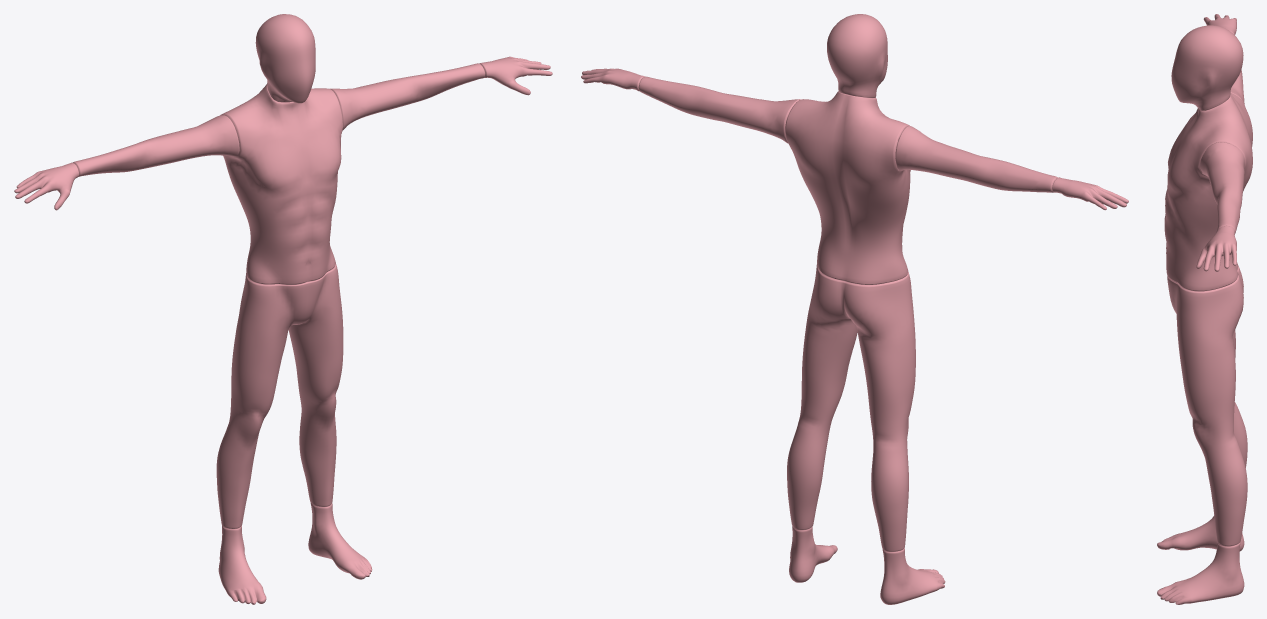
The model's file is Body3.glb.
3 renders of one model, left to right at view 1: azimuth 30°, elevation 25°; view 2: azimuth 150°, elevation 25°; view 3: azimuth 270°, elevation 25°, orthographic. The views are drawn at different scales.
Parts seen in each view (by area): view 1: Ch36; view 2: Ch36; view 3: Ch36.
Part boxes in pixels (x1,y1,x2,y2): Ch36: (14,14,552,604); Ch36: (581,14,1128,604); Ch36: (1157,14,1252,604).
Size of the model in its own units: 2.61 by 2.58 by 0.4133.
